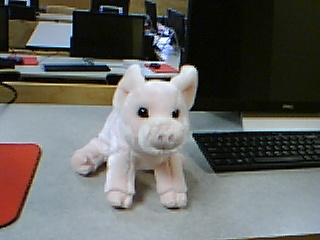piggy: (71, 64, 201, 212)
